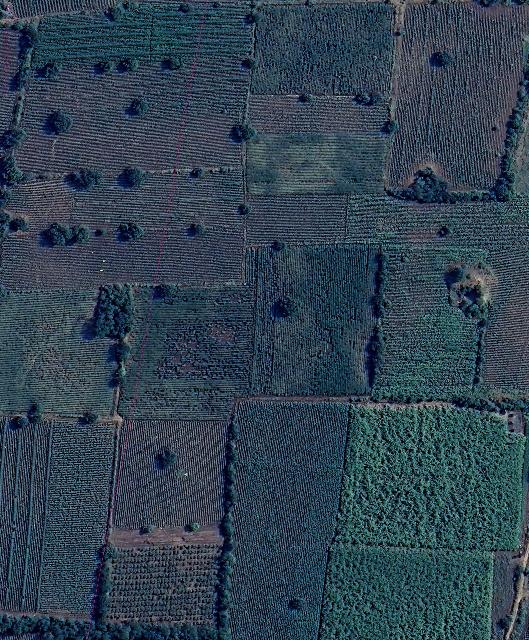Farms: (119, 245, 382, 421), (13, 2, 252, 170), (349, 193, 529, 402), (2, 166, 242, 288), (228, 403, 349, 640), (333, 405, 525, 550), (392, 0, 528, 193), (1, 415, 119, 612), (320, 543, 497, 640), (1, 284, 126, 417), (250, 1, 397, 96), (112, 420, 232, 527), (103, 529, 225, 622), (241, 134, 389, 192), (242, 93, 393, 132), (244, 192, 350, 243)
